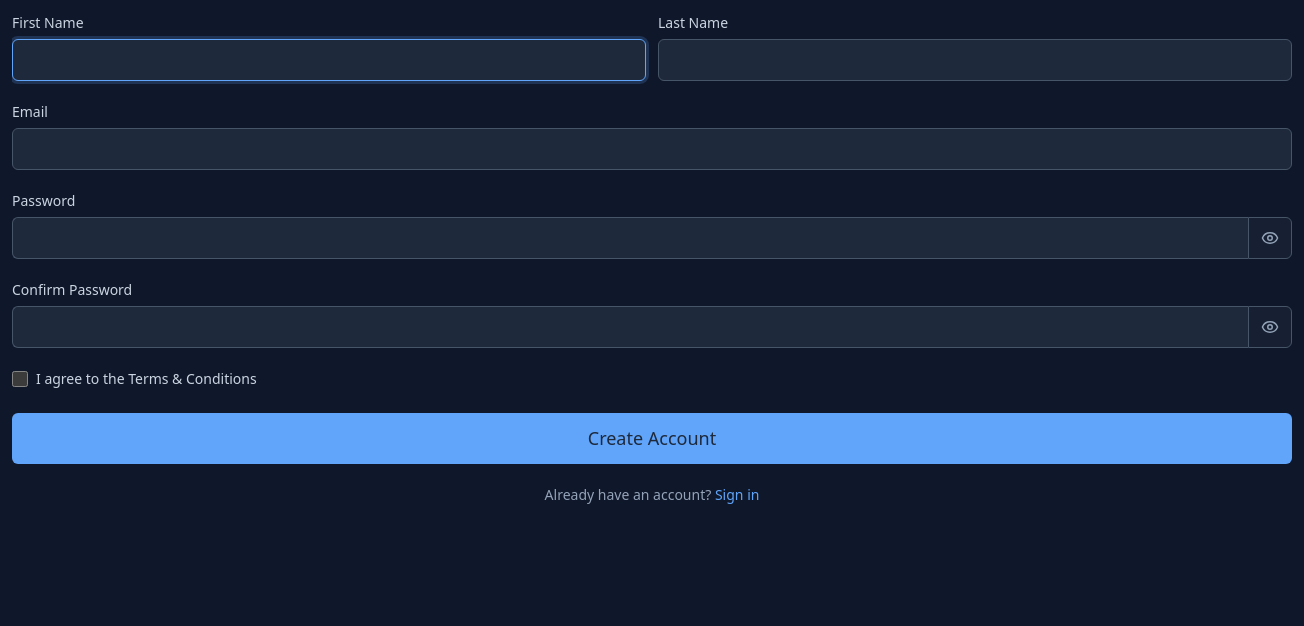
Test: RegisterForm › validation › clears field error when user starts typing
Click the button "Create Account" at point(652, 438), box 12,413 -> 1292,464
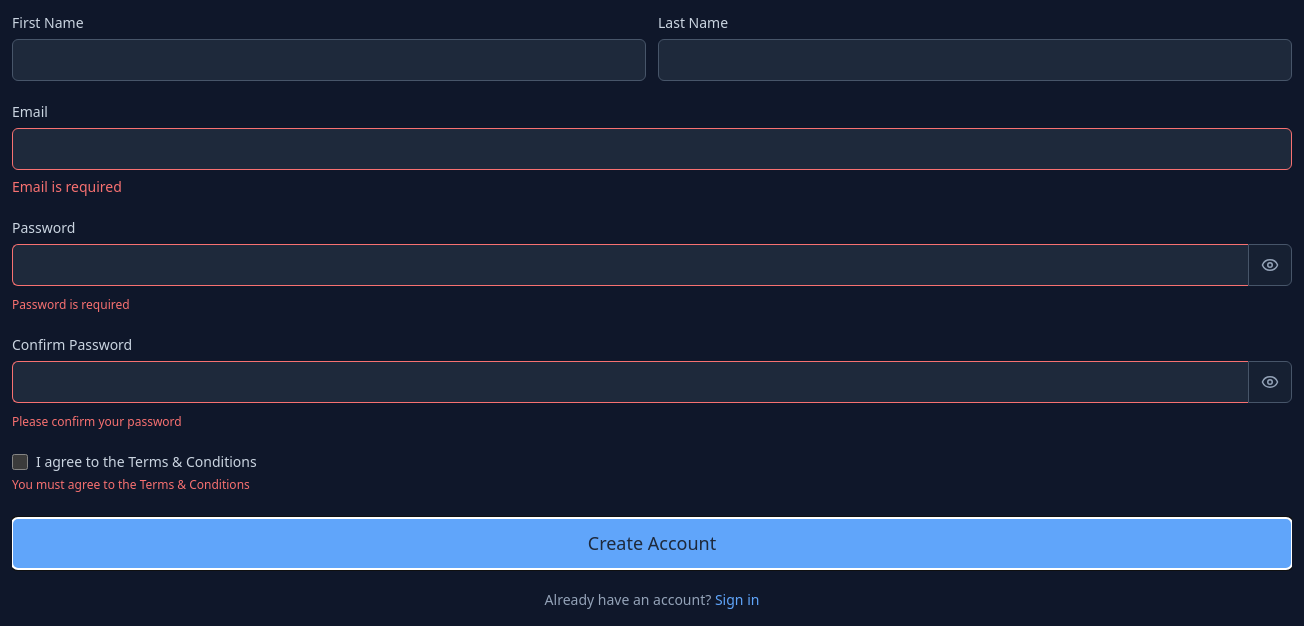
Check: the text "Email is required" is shown, box 12,177 -> 122,196
Type "a" into the field labelled "Email" at point(652, 149), box 12,128 -> 1292,170
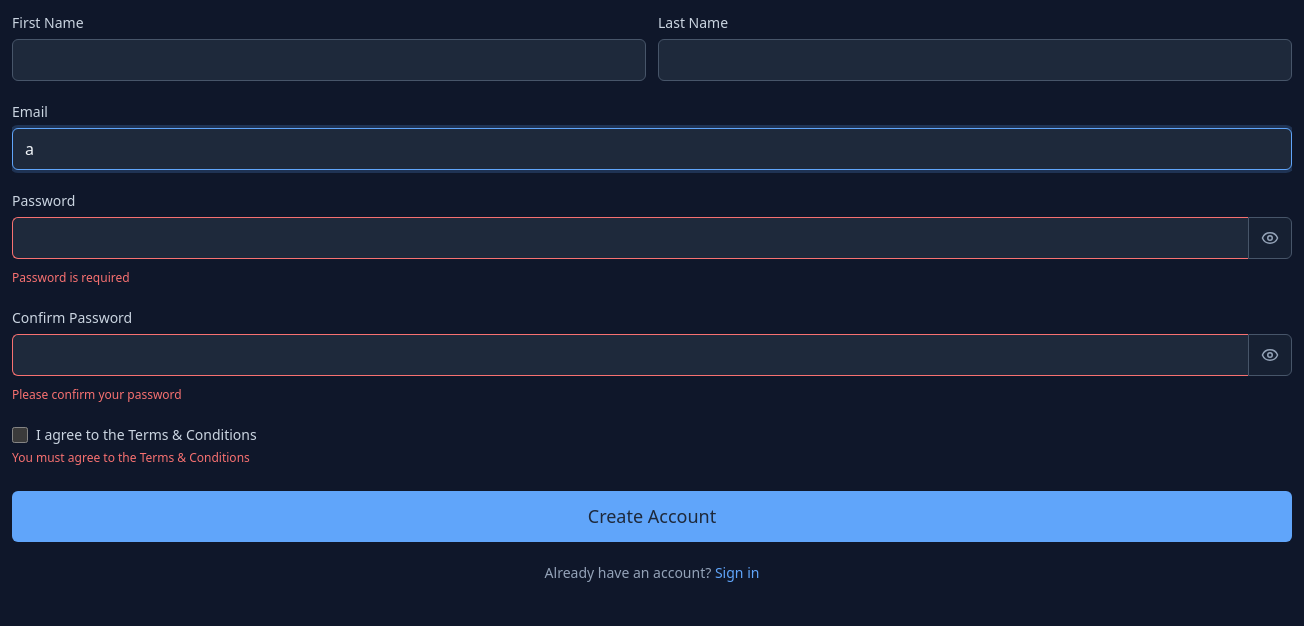
Check: the text "Email is required" is gone
